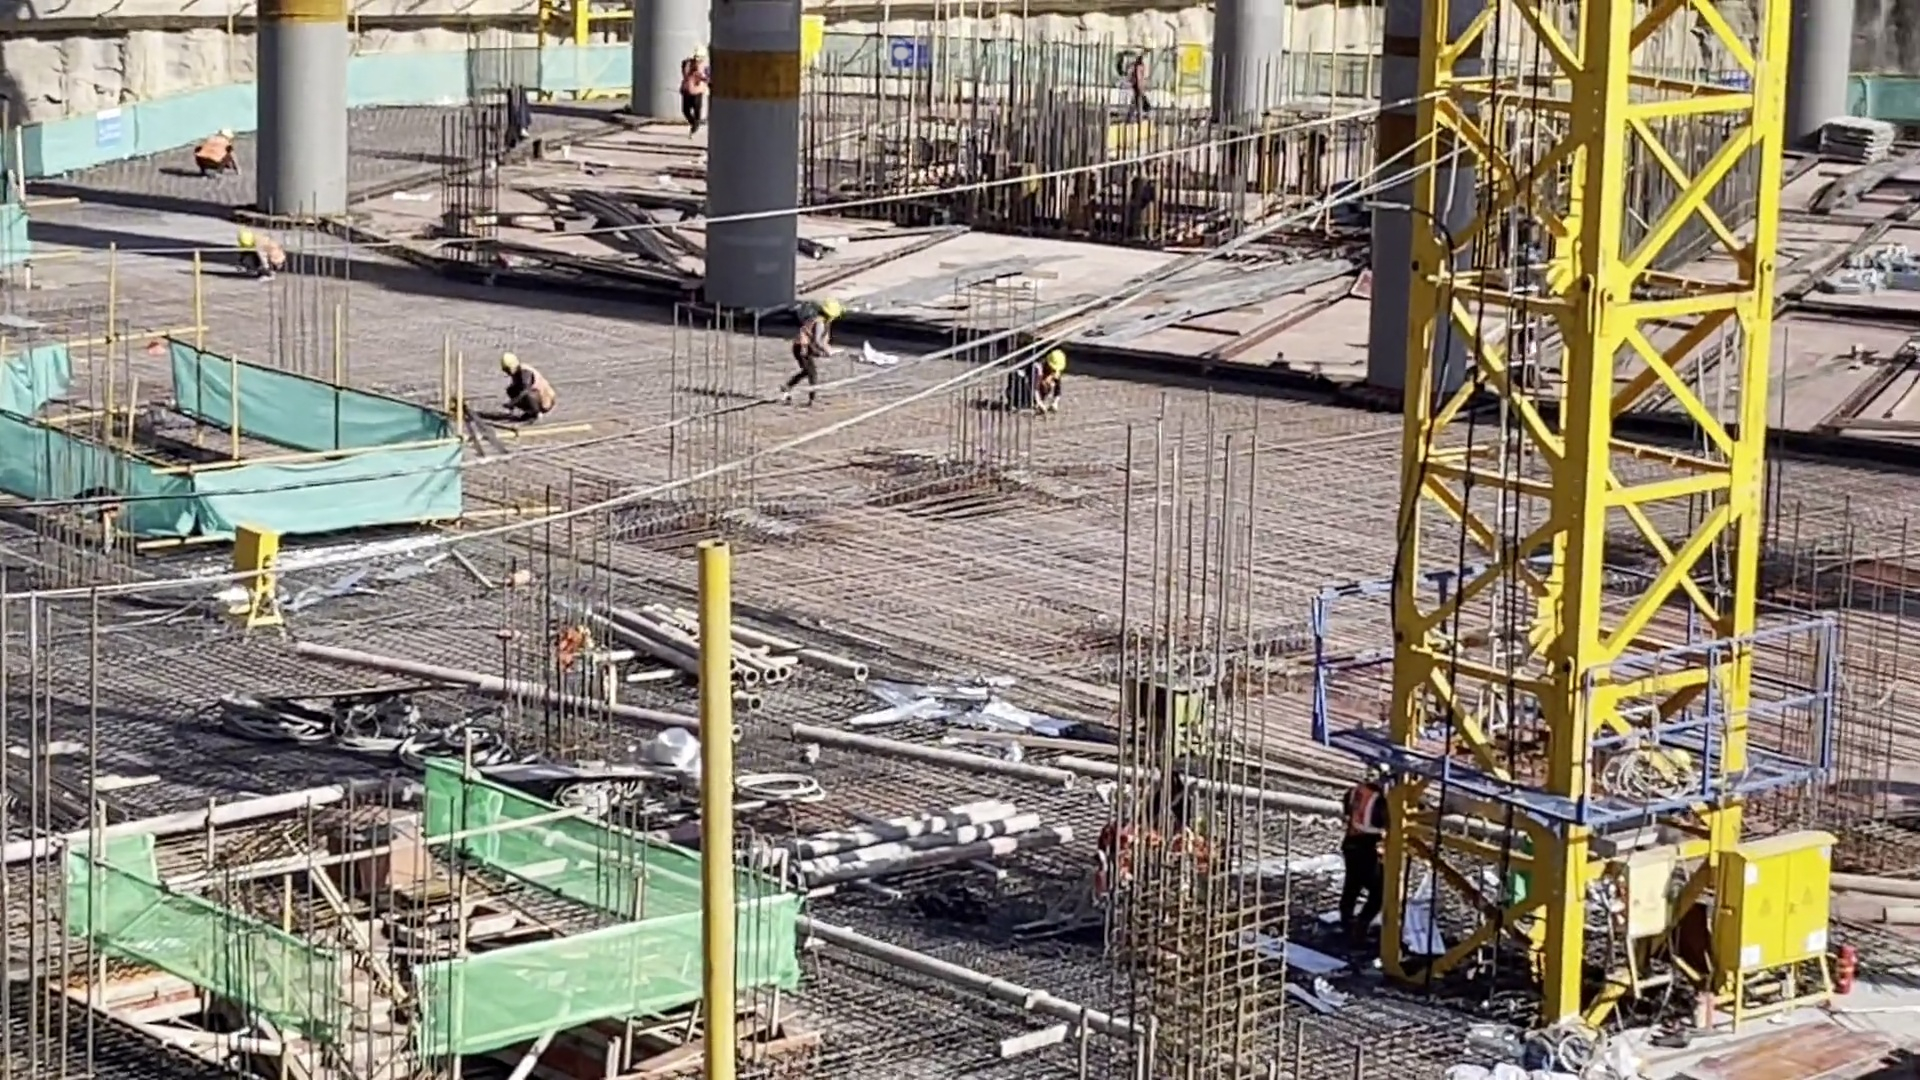helmet: (500, 352, 520, 370), (1047, 351, 1065, 371), (822, 298, 840, 316), (236, 227, 251, 248)
person: (1339, 757, 1386, 943), (782, 300, 839, 405), (496, 348, 553, 428), (1004, 349, 1064, 412), (682, 47, 706, 134), (195, 130, 238, 178)
vest: (1343, 784, 1382, 850), (192, 134, 225, 165), (248, 233, 275, 269), (679, 66, 706, 103), (523, 370, 548, 407)
